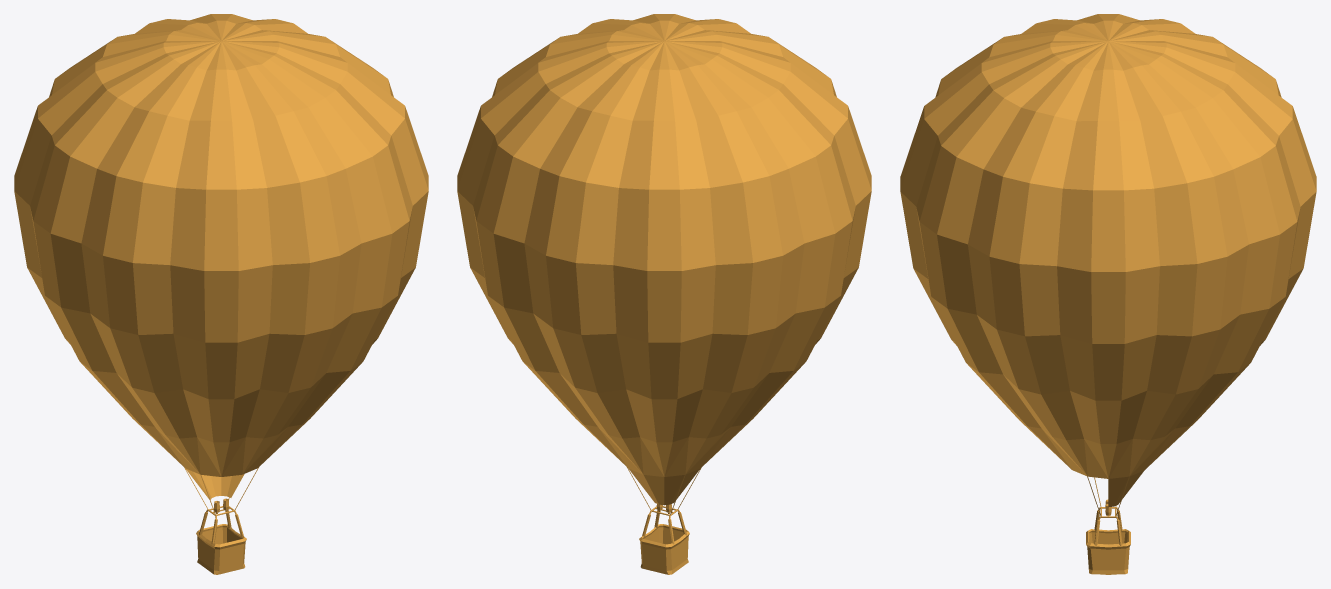
The model's file is balloon.glb.
3 renders of one model, left to right at view 1: azimuth 30°, elevation 25°; view 2: azimuth 150°, elevation 25°; view 3: azimuth 270°, elevation 25°, orthographic.
Visible parts, largest first — view 1: balloon; view 2: balloon; view 3: balloon.
Part boxes in pixels (x1,y1,x2,y2): balloon: [14, 14, 428, 574]; balloon: [457, 14, 871, 574]; balloon: [900, 14, 1316, 574].
Size of the model in its own units: 16.03 by 22.43 by 16.03.
